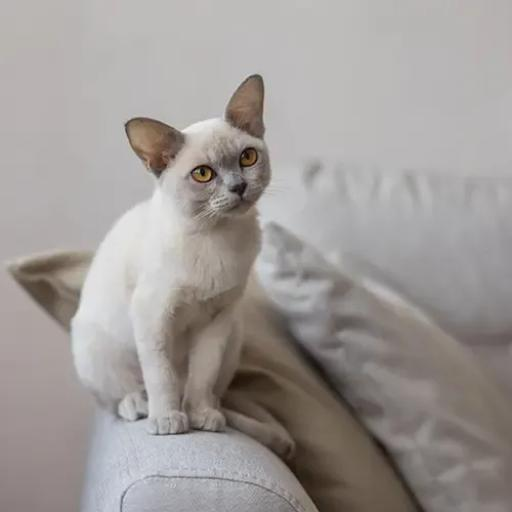cat_sitting: (71, 75, 270, 434)
